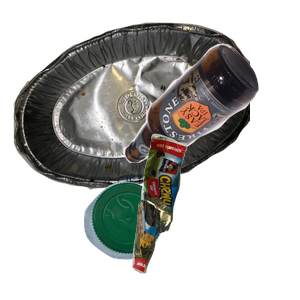glass: (120, 41, 300, 196)
metal: (11, 20, 251, 200)
plastic: (81, 179, 239, 300)
trash: (130, 131, 300, 300)
